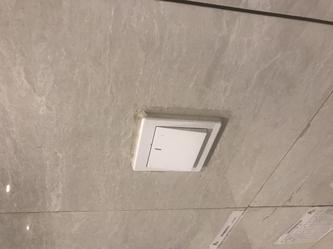switch: (148, 121, 206, 170)
